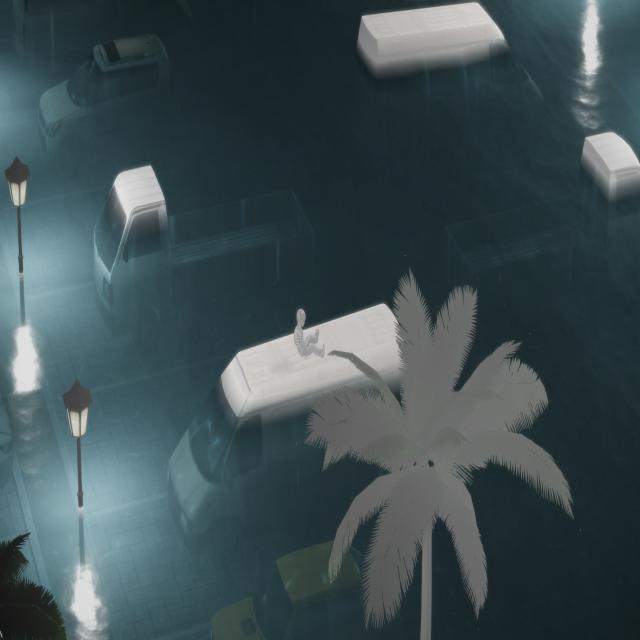Human: (286, 310, 331, 377)
